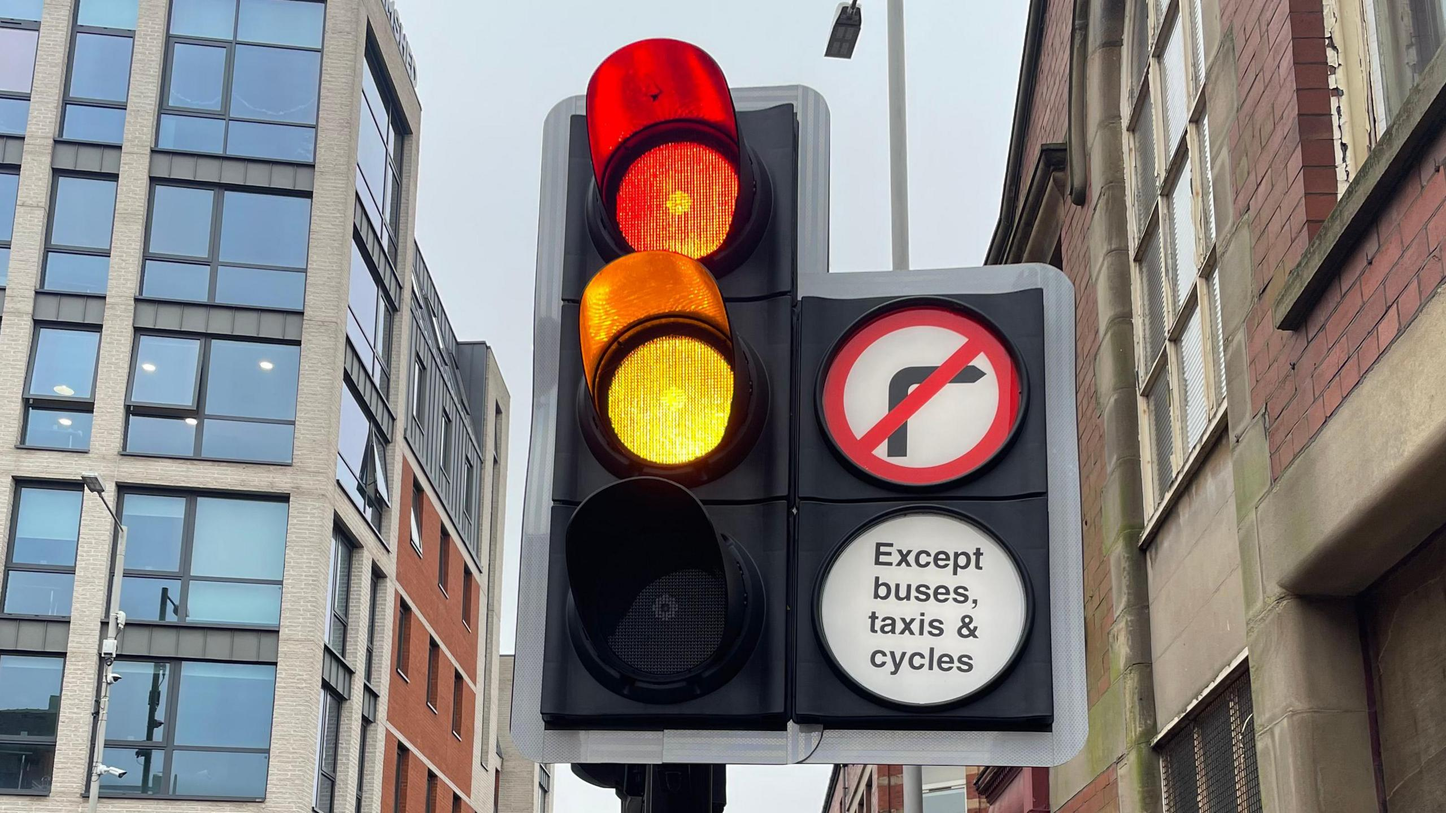TraficLight: (508, 44, 824, 754)
